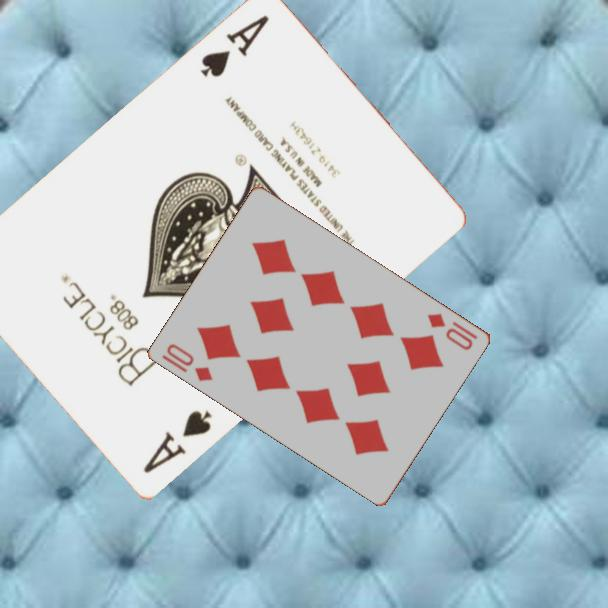d10: (158, 340, 216, 384), (424, 309, 481, 353)
s01: (139, 407, 215, 478), (197, 12, 272, 81)
